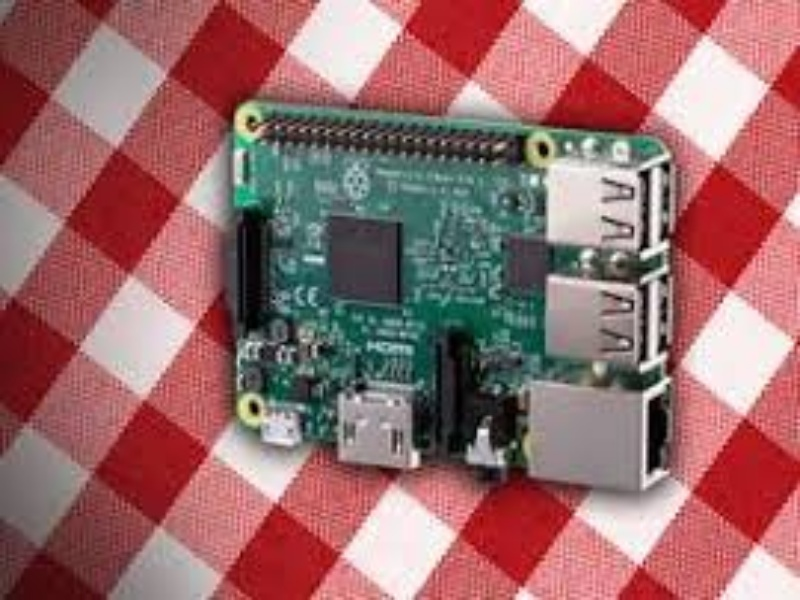raspberrypi: (221, 80, 687, 512)
